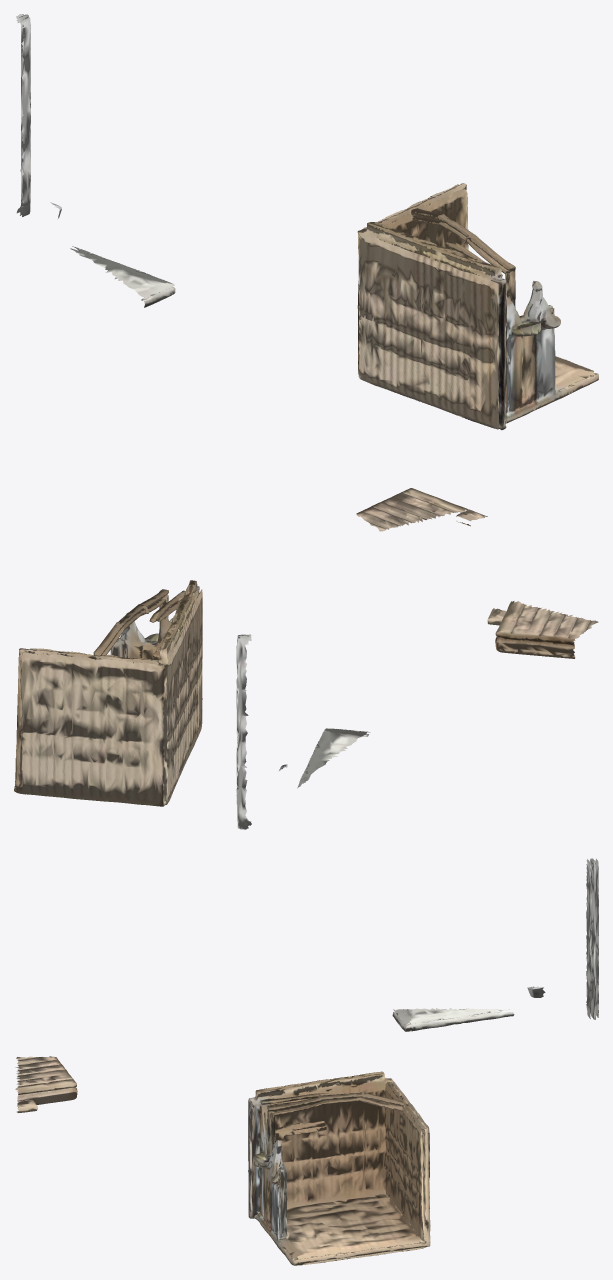
File: room-bathroom.glb
3 views of the same model, one above another, from view 1: azimuth 30°, elevation 25°; view 2: azimuth 150°, elevation 25°; view 3: azimuth 270°, elevation 25° (orthographic). The views are drawn at different scales.
Parts seen in each view (by area): view 1: room-bathroom; view 2: room-bathroom; view 3: room-bathroom.
Boxes of the visible parts, x1,y1,x2,y2 form: room-bathroom: (16,14,598,531); room-bathroom: (14,580,598,829); room-bathroom: (15,858,598,1265).
Bounding box in the file's own units: 0.2221 × 0.1729 × 0.3569.
Materials: 1 (1 with a texture image).
